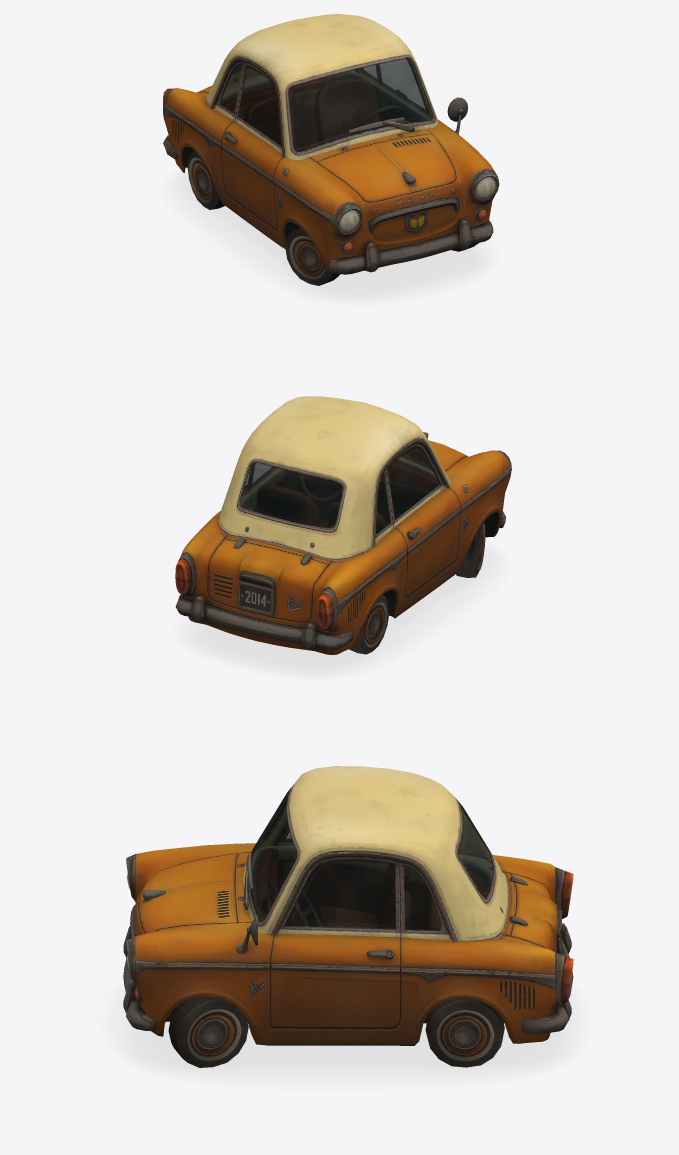
File: pony_cartoon.glb
3 renders of one model, top to bottom at view 1: azimuth 30°, elevation 25°; view 2: azimuth 150°, elevation 25°; view 3: azimuth 270°, elevation 25°, orthographic. The views are drawn at different scales.
Visible parts, largest first — view 1: Object_2, Object_3, Object_5, Object_4; view 2: Object_2, Object_3, Object_5, Object_4; view 3: Object_2, Object_3, Object_5, Object_4.
Boxes of the visible parts, x1,y1,x2,y2 form: Object_2: (163,14,499,285); Object_3: (164,168,497,304); Object_5: (220,58,433,152); Object_4: (222,70,430,151); Object_2: (175,396,511,654); Object_3: (175,540,509,679); Object_5: (240,446,440,534); Object_4: (241,458,438,533); Object_2: (123,766,573,1067); Object_3: (103,984,587,1088); Object_5: (251,788,493,930); Object_4: (251,846,492,930).
Size of the model in its own units: 2.89 by 1.34 by 3.43.
Materials: 4 (4 with a texture image).
